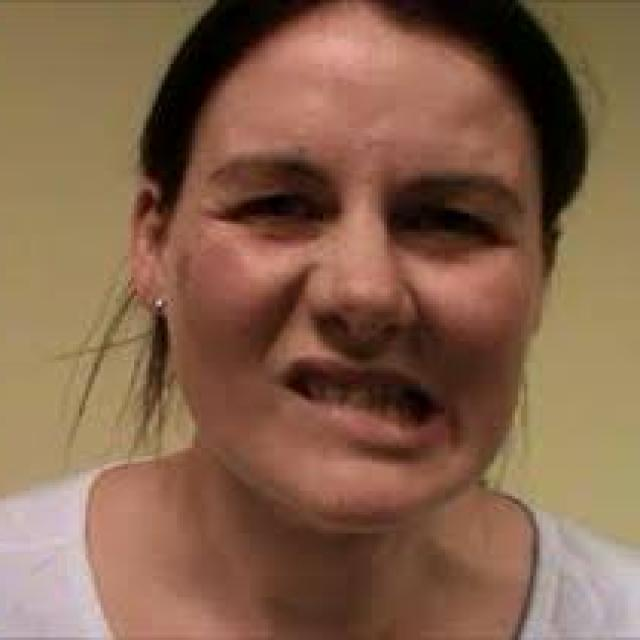stroke_face: (104, 10, 578, 580)
